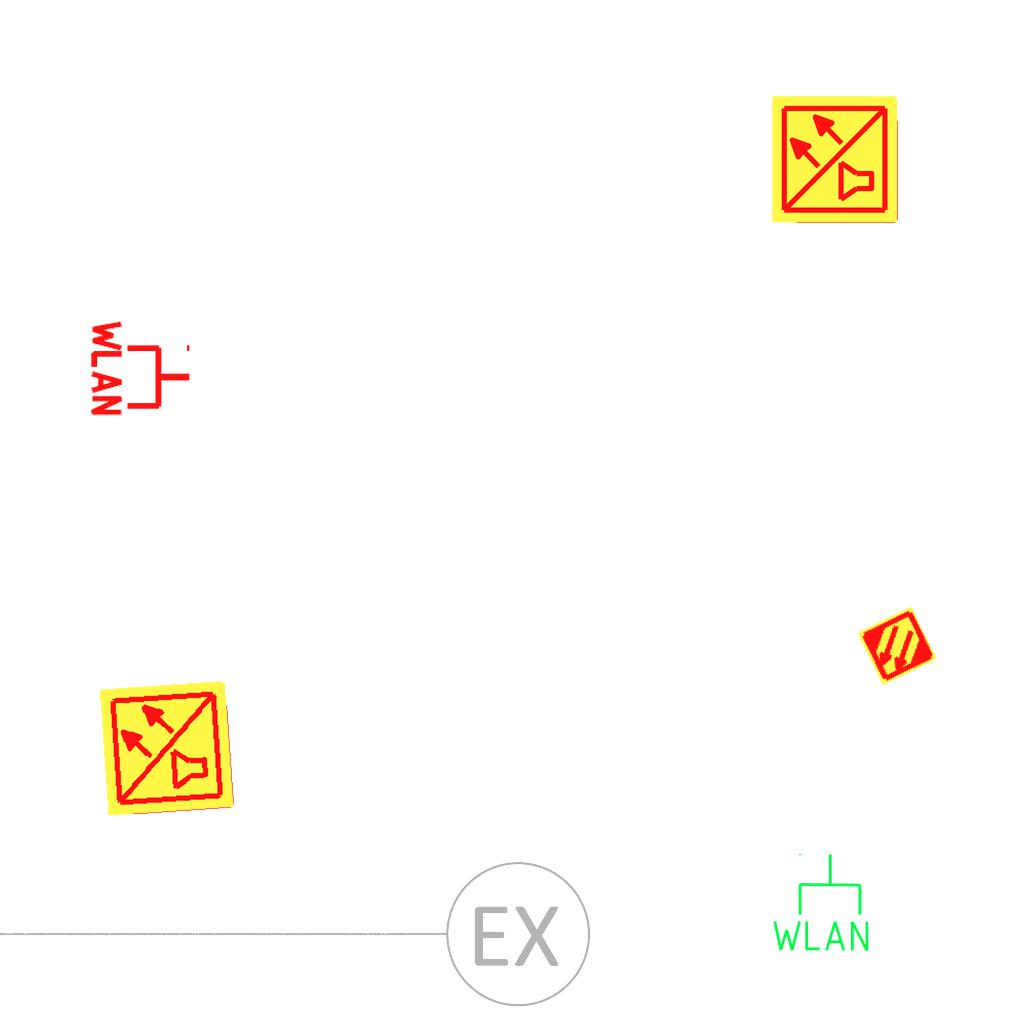ASR_Ansaugrauchmelder: (855, 604, 939, 688)
OKW_Multisensormelder_(Kombination_optischer_Rauch-Kahlenmonoxid_Waerme-Melder): (96, 677, 238, 819), (769, 93, 901, 225)
WLAN: (89, 316, 194, 420), (768, 851, 873, 955)
